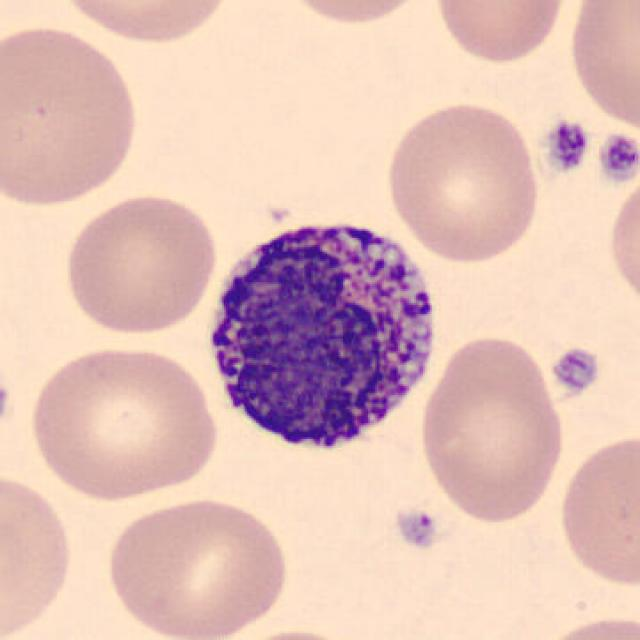Basophil: (196, 199, 448, 467)
Platelets: (540, 116, 592, 176), (547, 344, 601, 398), (596, 130, 638, 187), (393, 506, 441, 552), (0, 376, 14, 436)
RBC: (23, 340, 224, 504), (414, 330, 569, 527), (100, 490, 294, 640), (0, 18, 146, 213), (380, 97, 544, 266), (58, 188, 220, 338), (554, 428, 640, 590), (0, 465, 78, 640), (564, 2, 638, 134), (430, 0, 572, 67), (52, 0, 238, 48), (604, 171, 640, 314), (270, 0, 432, 28), (533, 610, 640, 640), (217, 626, 373, 640)
